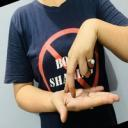hand: (65, 18, 98, 99), (51, 85, 120, 123)
